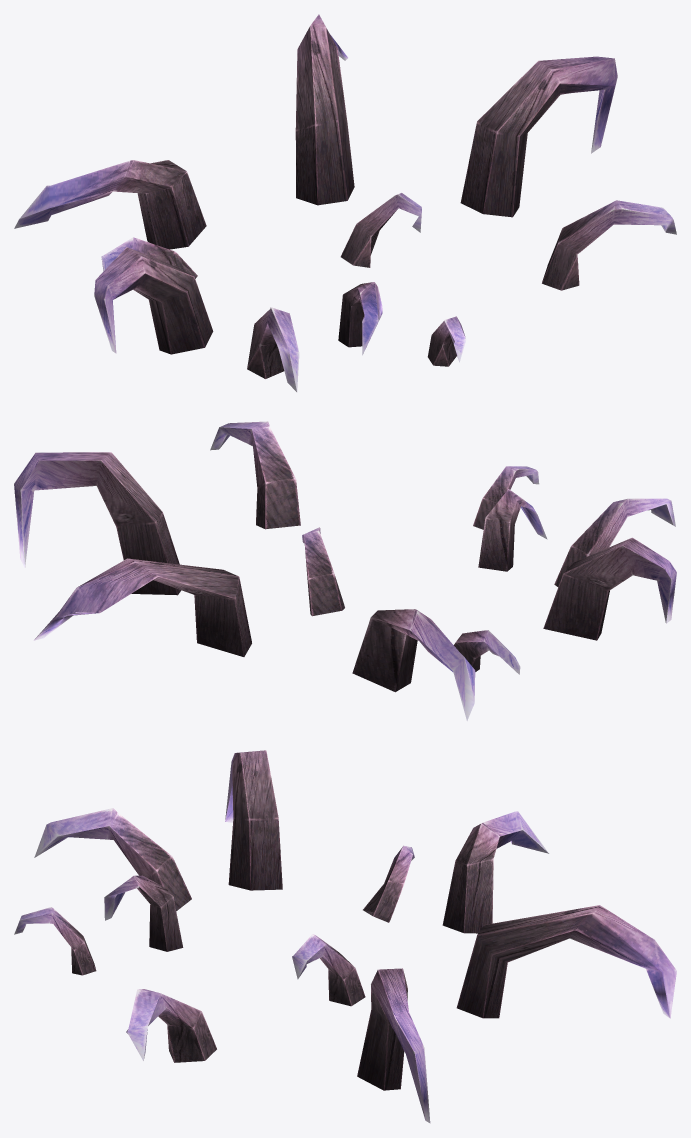
Rendered from stakes.obj.
The picture shows the model from 3 angles, top to bottom: view 1: azimuth 30°, elevation 25°; view 2: azimuth 150°, elevation 25°; view 3: azimuth 270°, elevation 25°; orthographic projection. The views are drawn at different scales.
Visible parts, largest first — view 1: stakes; view 2: stakes; view 3: stakes.
Part boxes in pixels (x1=…): stakes: x1=14, y1=14, x2=676, y2=392; stakes: x1=14, y1=421, x2=676, y2=720; stakes: x1=14, y1=750, x2=676, y2=1123.
Size of the model in its own units: 209 by 45.98 by 193.
1 material, 1 textured.
